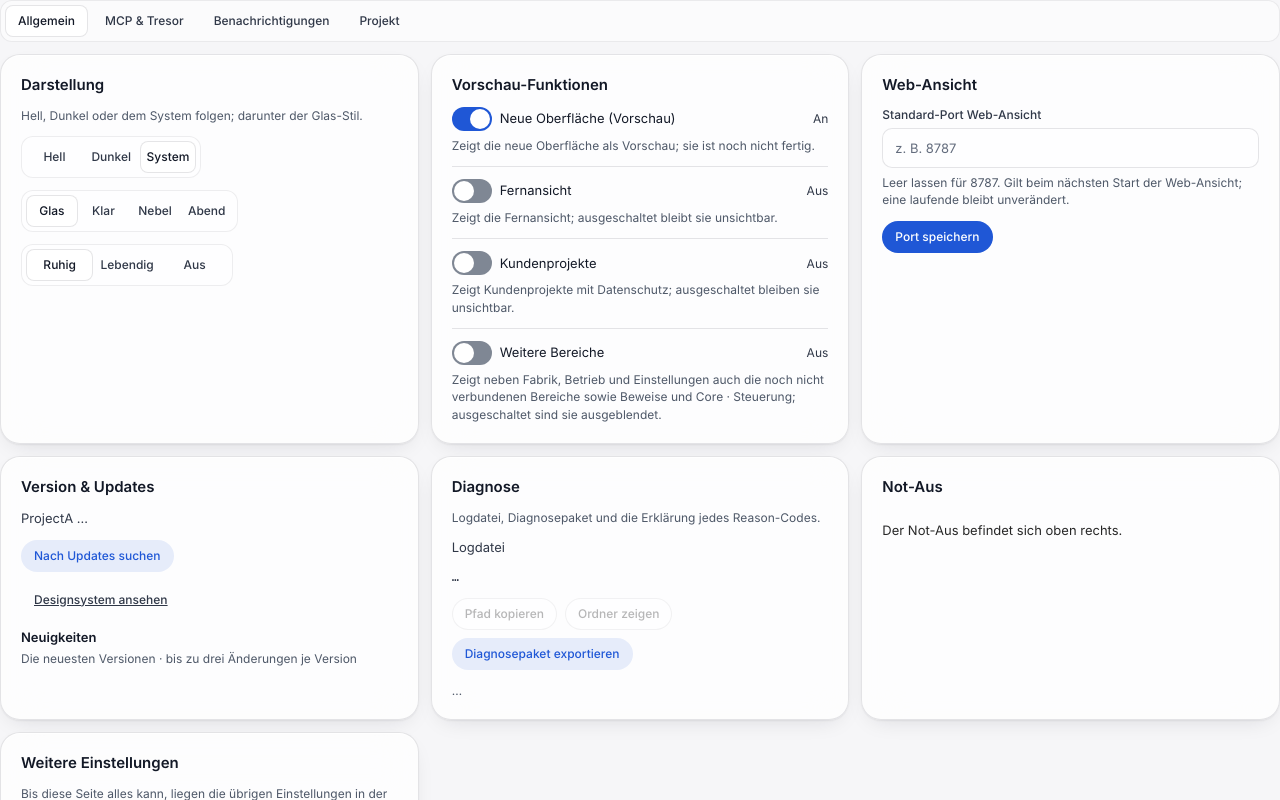
Scenario: tab MCP & Tresor › shows vault read errors without exposing key material in settings
The width and height of the screenshot is (1280, 800).
Click the tab "MCP & Tresor" at (144, 21), box top-left (92, 5), bottom-right (197, 37)
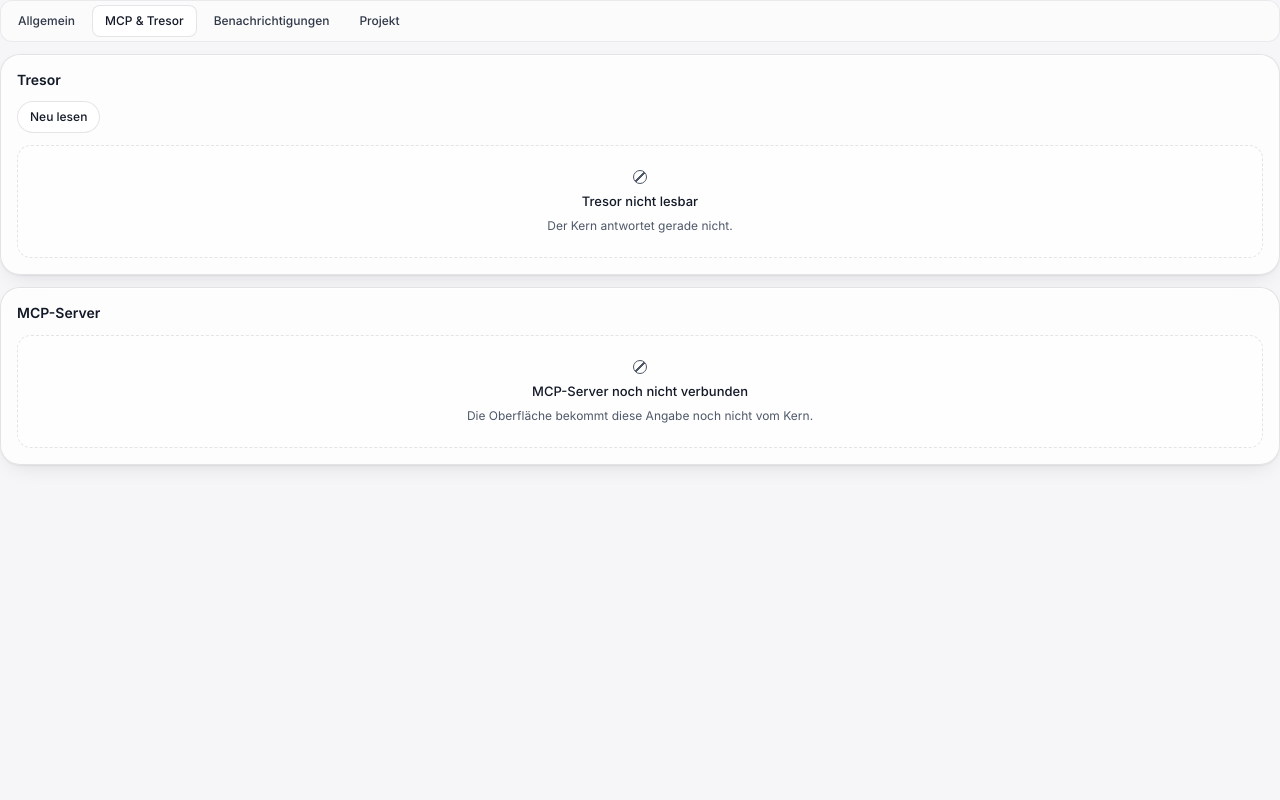
expect the text "Tresor nicht lesbar" is shown: met, box top-left (582, 192), bottom-right (698, 210)
Click the tab "Benachrichtigungen" at (272, 21), box top-left (201, 5), bottom-right (342, 37)
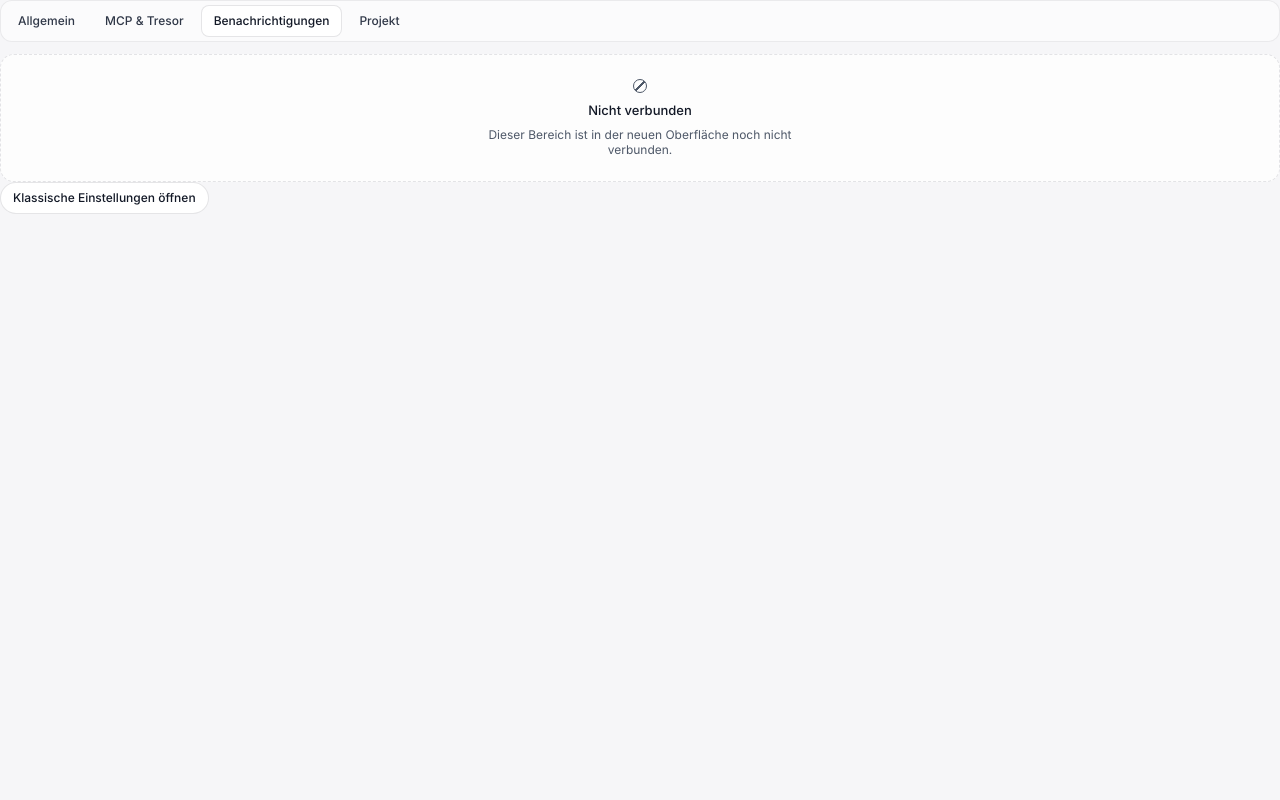
Click the tab "MCP & Tresor" at (144, 21), box top-left (92, 5), bottom-right (197, 37)
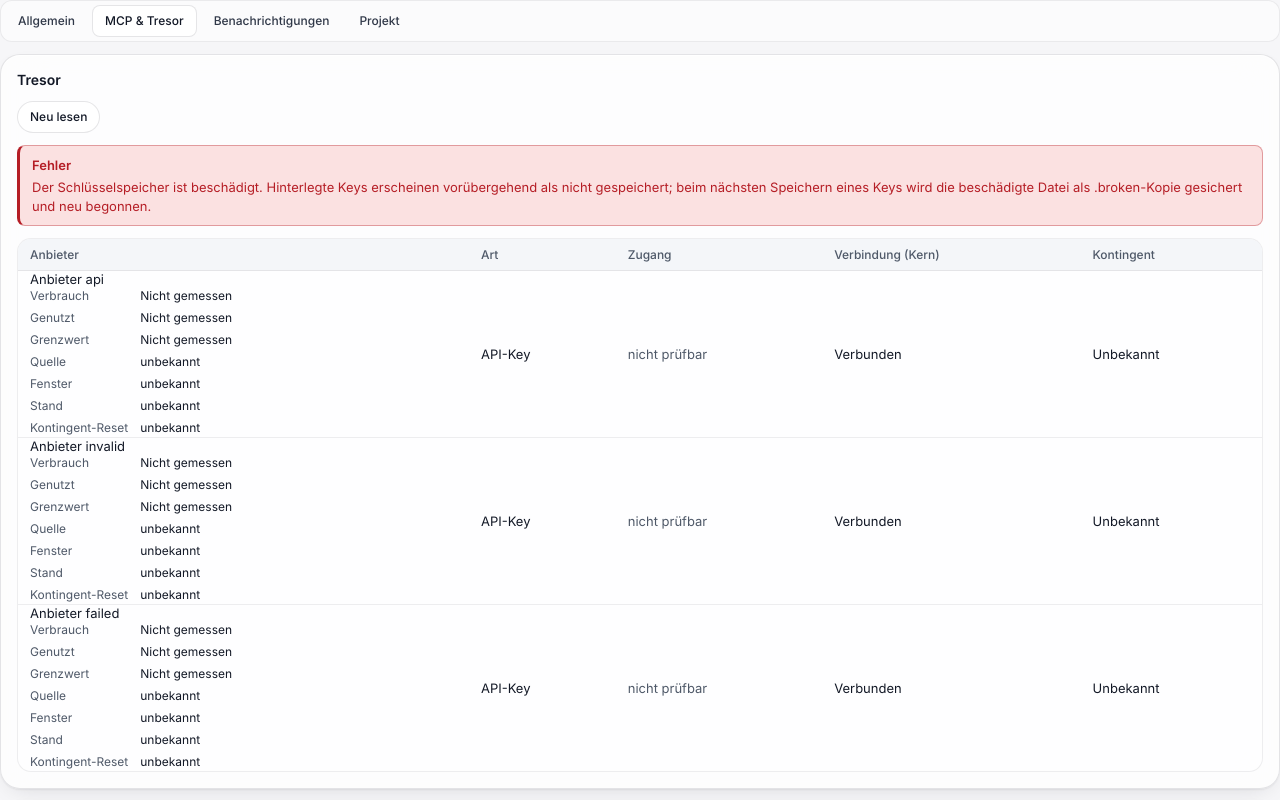
expect the message shows "Der Schlüsselspeicher ist beschädigt": met, box top-left (32, 179), bottom-right (1242, 214)
expect the text "nicht prüfbar" is shown 3 times: met, box top-left (628, 346), bottom-right (707, 362); top-left (628, 513), bottom-right (707, 529); top-left (628, 680), bottom-right (707, 696)
